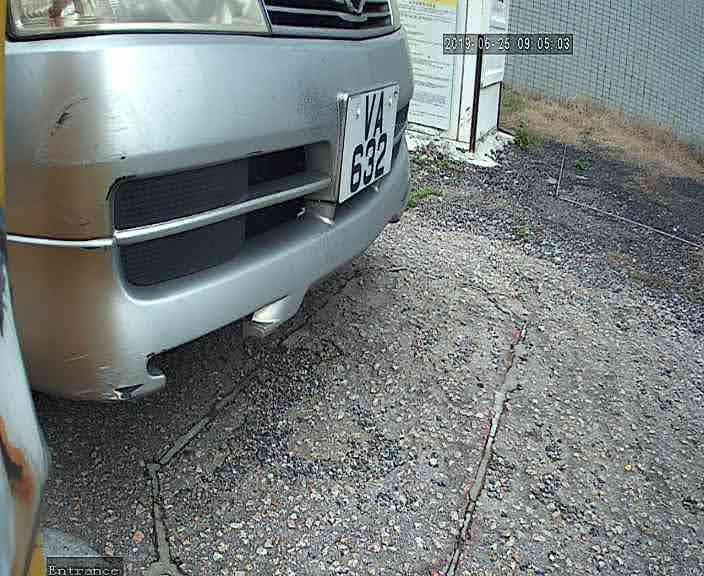privatecar: (6, 2, 438, 417)
